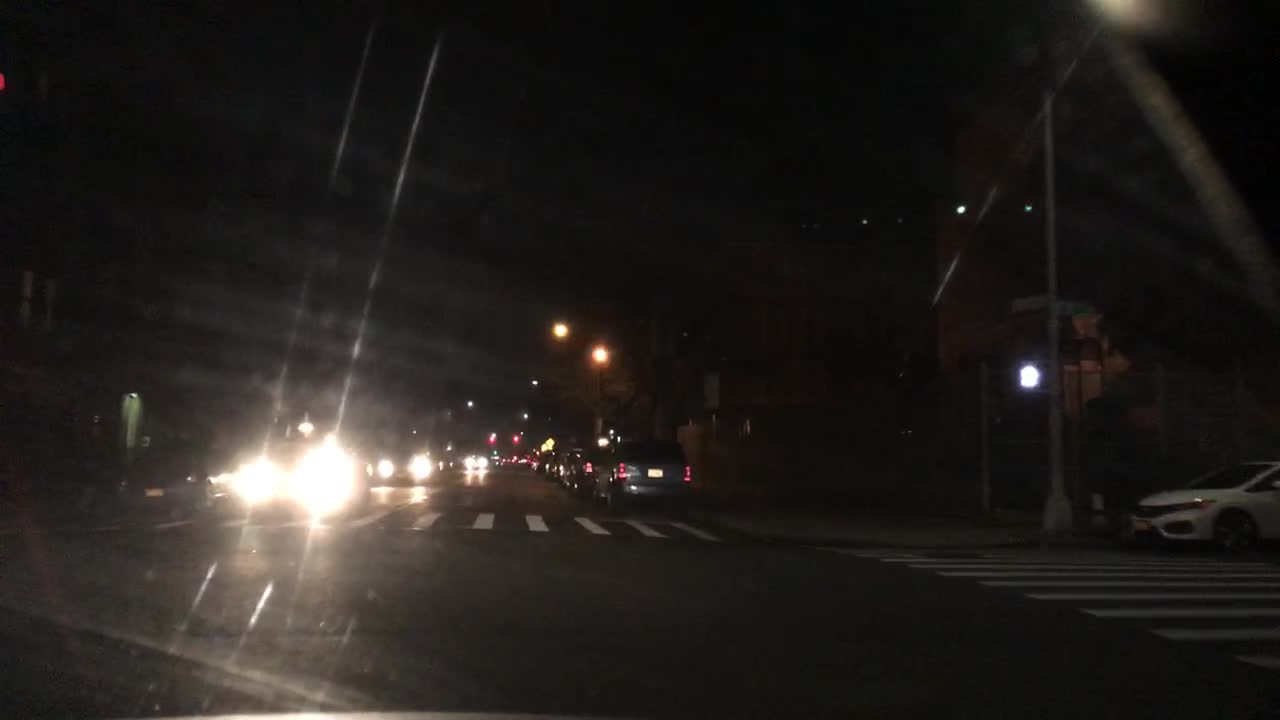car: (1126, 457, 1277, 550), (238, 436, 370, 521), (112, 436, 242, 517), (592, 437, 694, 511), (376, 447, 432, 482), (567, 452, 600, 497), (556, 449, 580, 486), (462, 454, 490, 470), (542, 452, 555, 479), (526, 454, 541, 471), (515, 452, 529, 466)
traffic light: (1016, 360, 1046, 394), (487, 435, 495, 446), (512, 434, 519, 446)
traffic sign: (1009, 291, 1051, 311), (1056, 301, 1095, 315), (546, 436, 555, 449), (539, 444, 547, 454)
